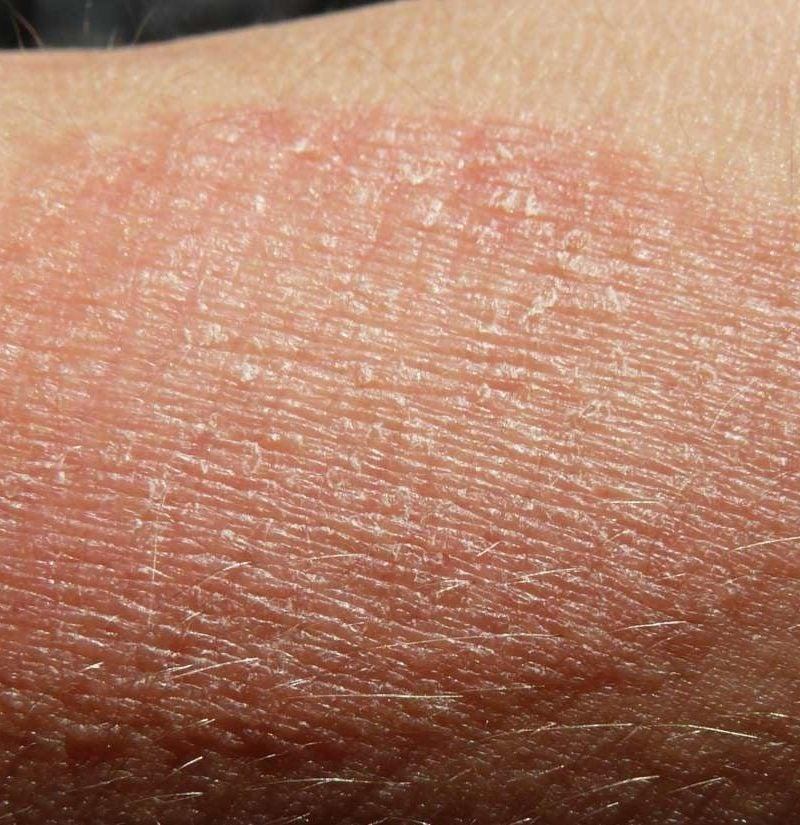Dry-Skin: (5, 82, 797, 756)
